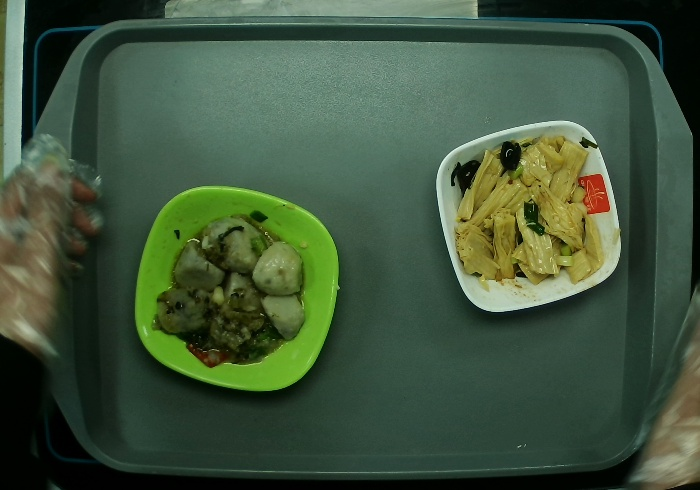SHKJ-Bai_Se_Xiao_Fang_Die: (434, 119, 624, 315)
SHKJ-Lv_Se_Cai_Die: (135, 184, 337, 395)
